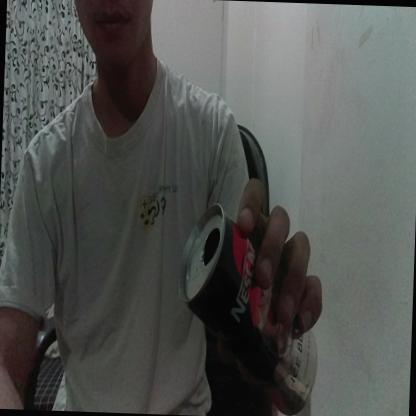alumunium_can: (175, 199, 325, 416)
